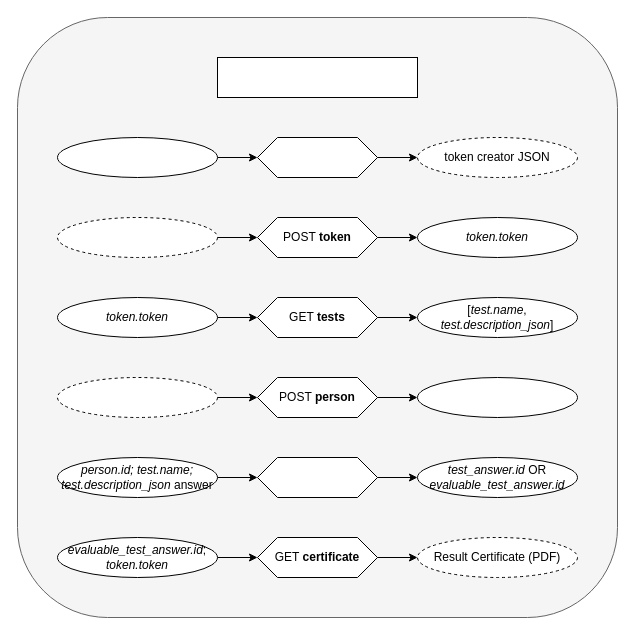
Image size: 635x635. Some labels were removed from this diagram. The box of each missing label's shape, as (x1, y1, x2, y2) in pixels:
GET token_creator: (256, 136, 378, 178)
person.id: (416, 376, 578, 418)
POST test_answer: (256, 456, 378, 498)
REST routes: (216, 56, 418, 98)
test.description_json answer: (56, 376, 218, 418)
token creator JSON answers: (56, 216, 218, 258)
